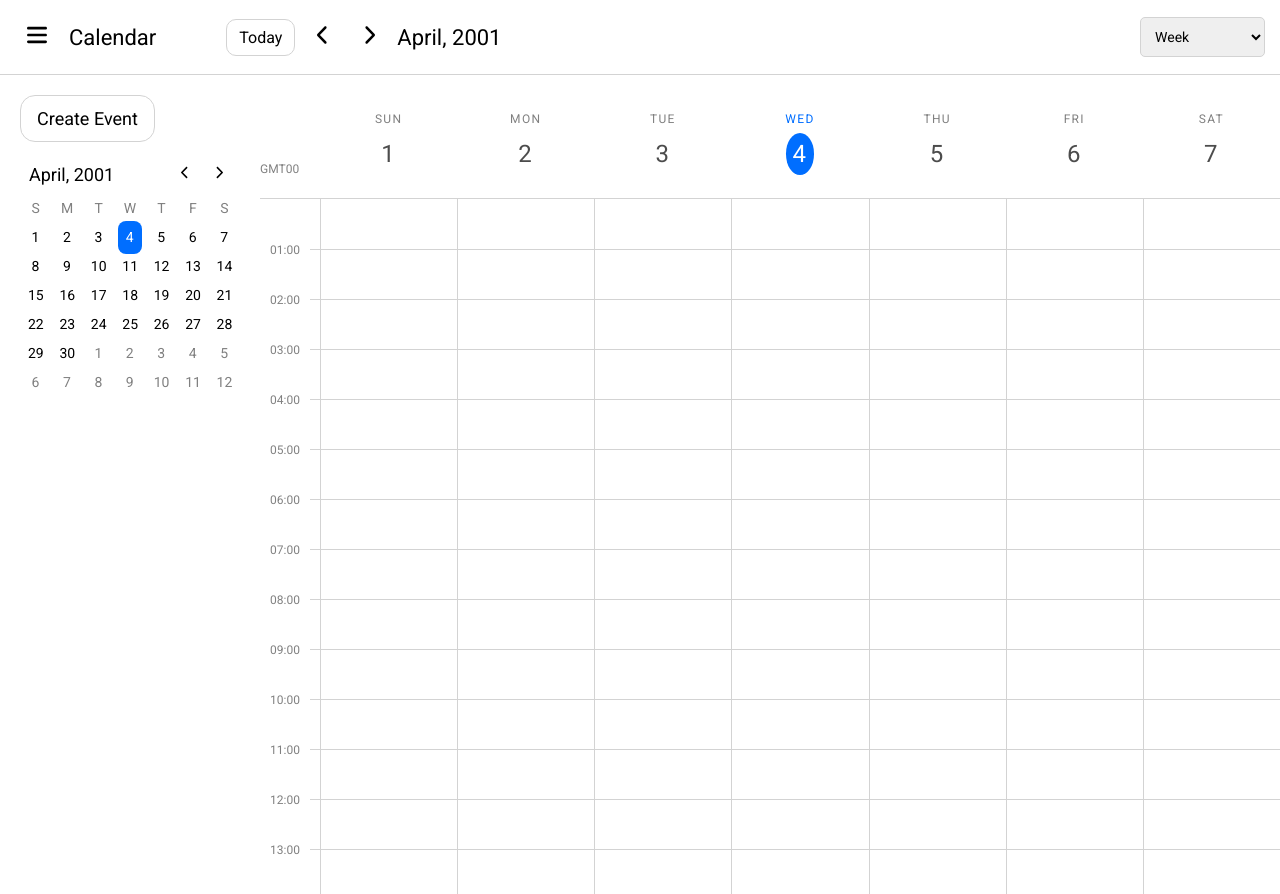
Test: sidebarCalendar › rerenders when sidebar calendar timeframe is changed › forward
This screenshot has width=1280, height=894.
Click the button with test id "nextMonthButton" at (219, 174), box [207,162,231,186]
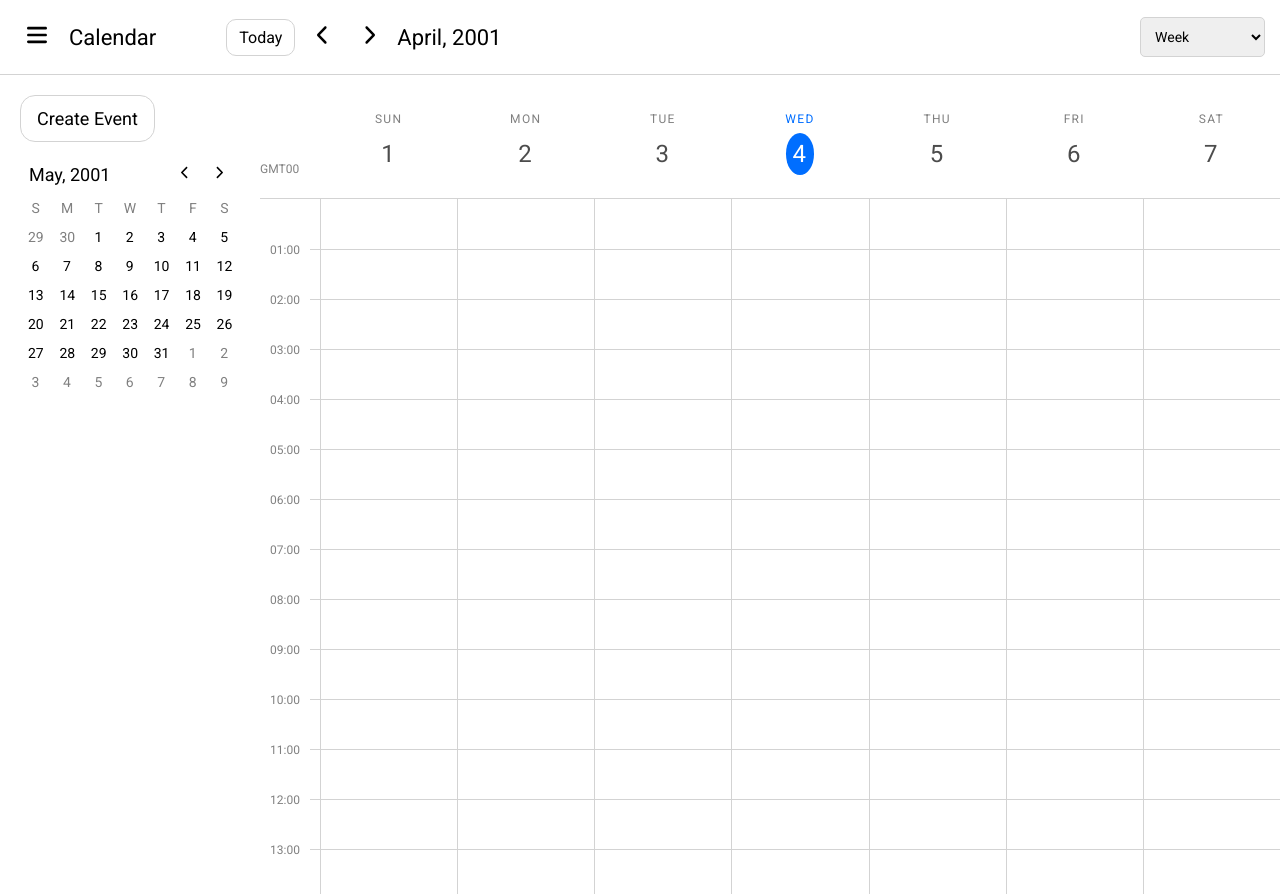
Now the heading with test id "sidebarCalendarDate" reads "May, 2001", box [29,164,110,184]
